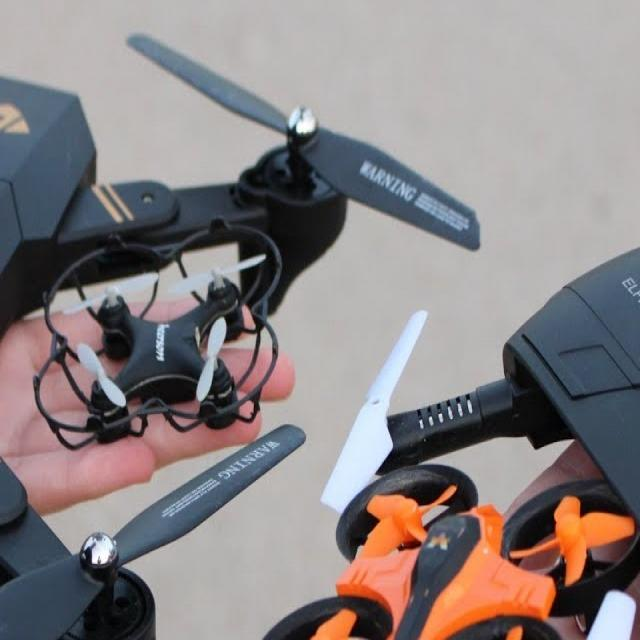drone: (0, 0, 485, 640), (244, 429, 640, 640)
